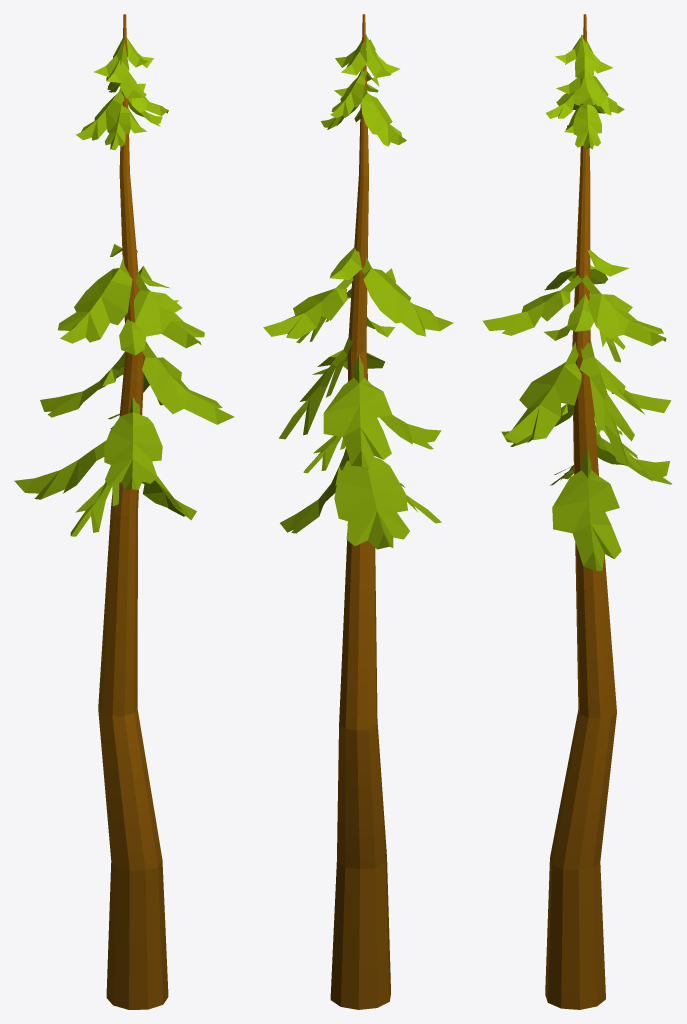
Rendered from 3full.glb.
3 renders of one model, left to right at view 1: azimuth 30°, elevation 25°; view 2: azimuth 150°, elevation 25°; view 3: azimuth 270°, elevation 25°, orthographic.
Parts seen in each view (by area): view 1: SM_FreeTree_04; view 2: SM_FreeTree_04; view 3: SM_FreeTree_04.
Part boxes in pixels (box(x1,y1,x2,y2)): SM_FreeTree_04: box(14, 14, 234, 1009); SM_FreeTree_04: box(263, 14, 453, 1009); SM_FreeTree_04: box(482, 14, 671, 1009).
Bounding box in the file's own units: 2.03 × 12.28 × 2.16.
Materials: 1 (1 with a texture image).
